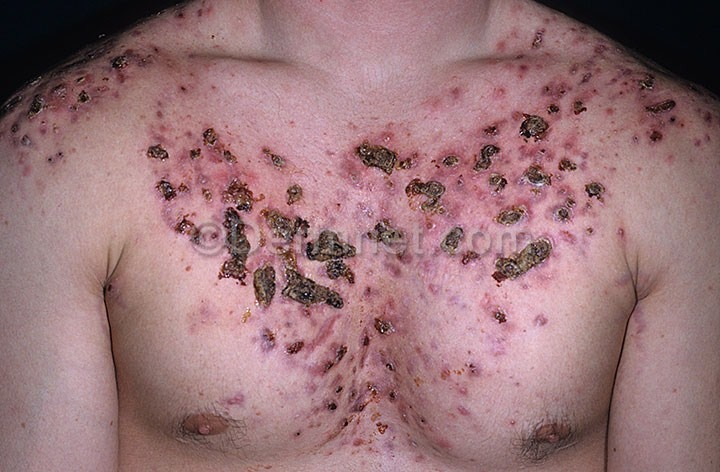Acne: (22, 18, 693, 336)
